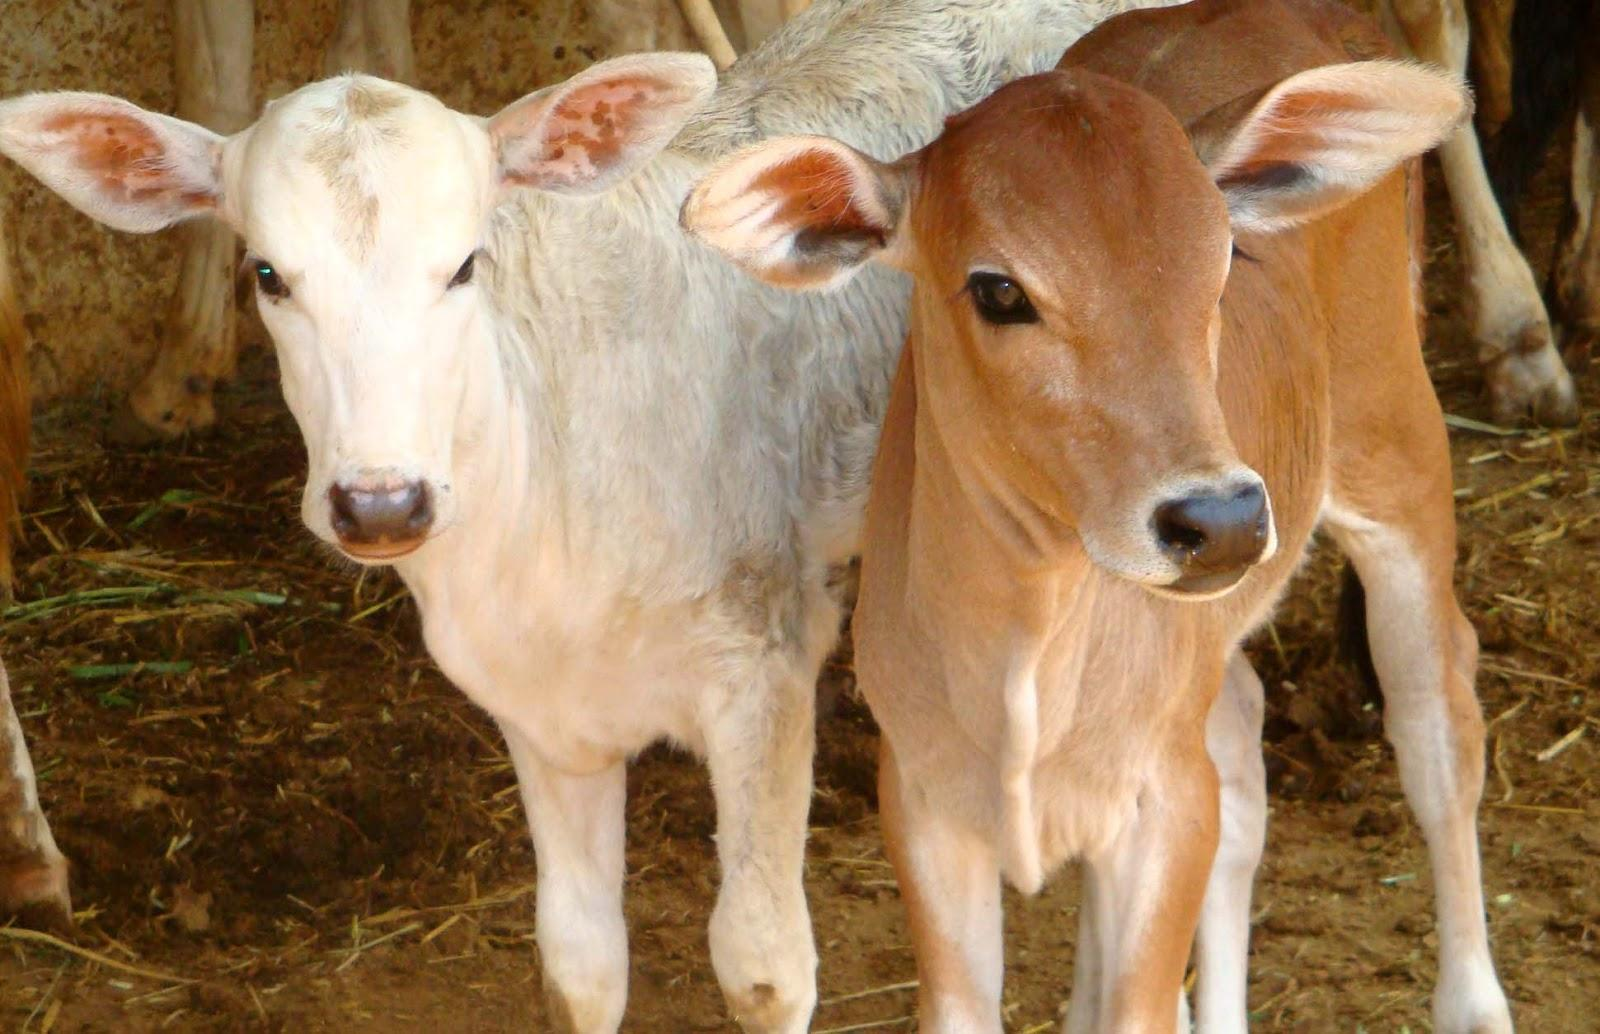muzzles: (1066, 459, 1286, 609), (289, 467, 462, 568)
